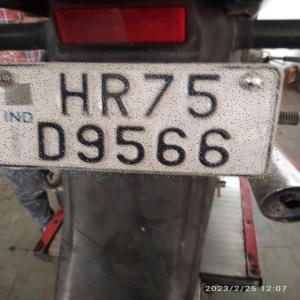Plate: (0, 62, 281, 176)
